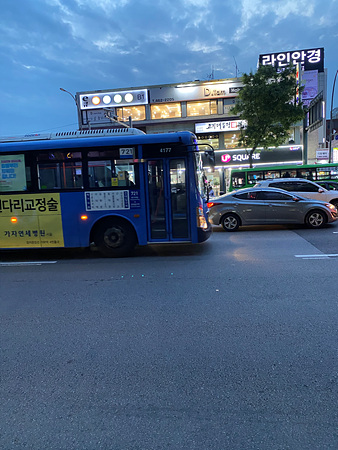entrance: (143, 152, 192, 242)
